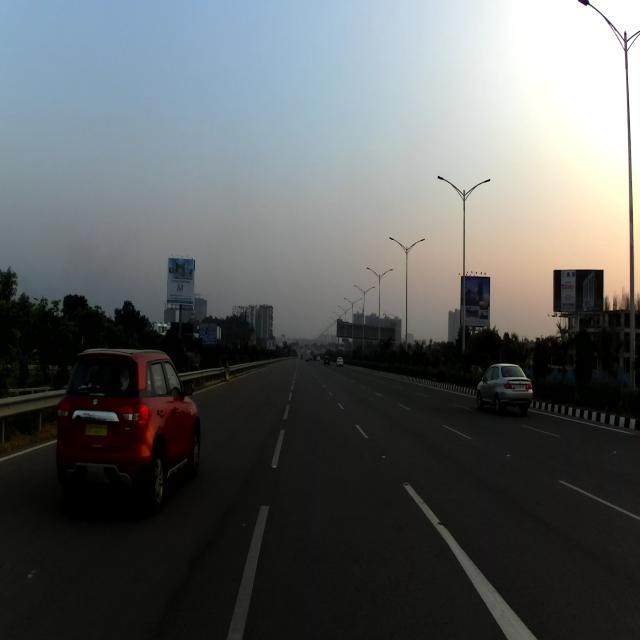car ahead at: (52, 341, 208, 515), (479, 352, 533, 423)
